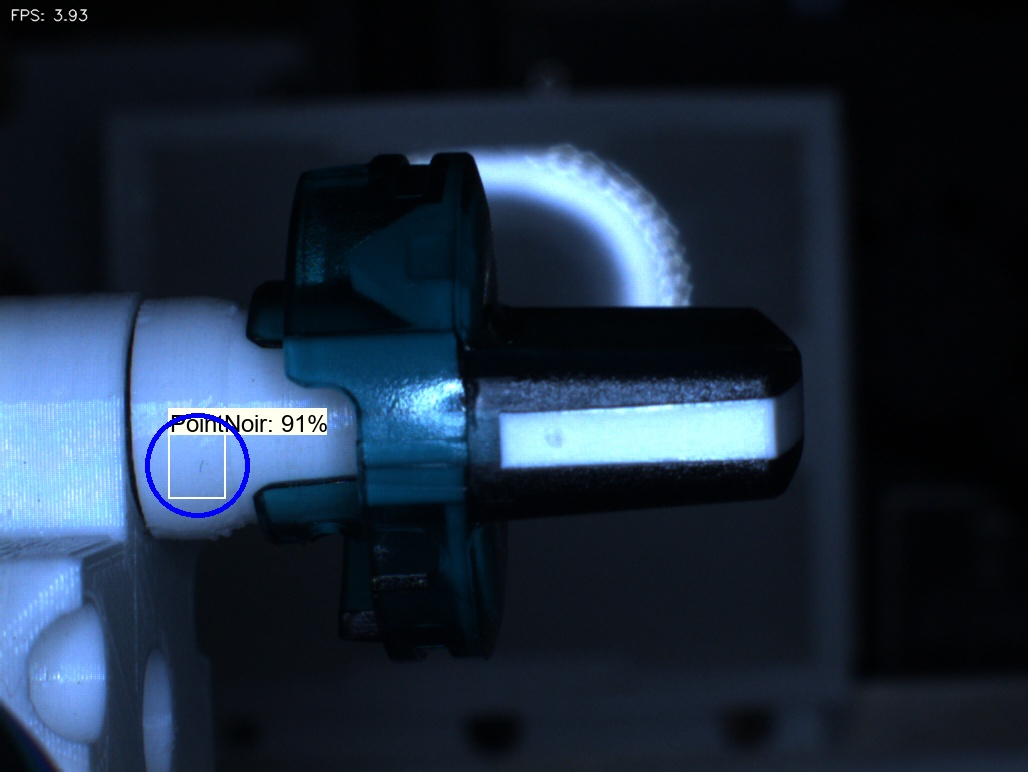DentOk: (330, 216, 394, 315)
